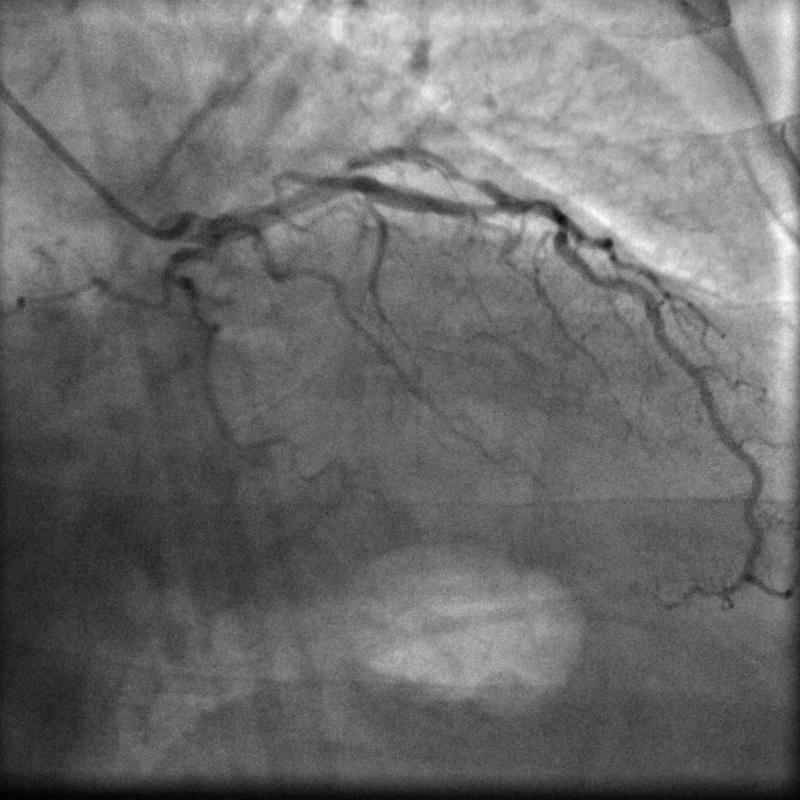Stenosis: (489, 193, 570, 237)
